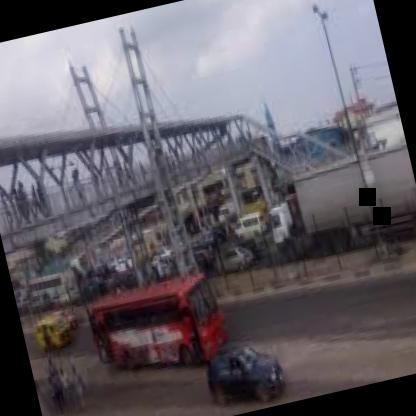car: (62, 248, 240, 394), (166, 307, 290, 416), (27, 298, 82, 354)
